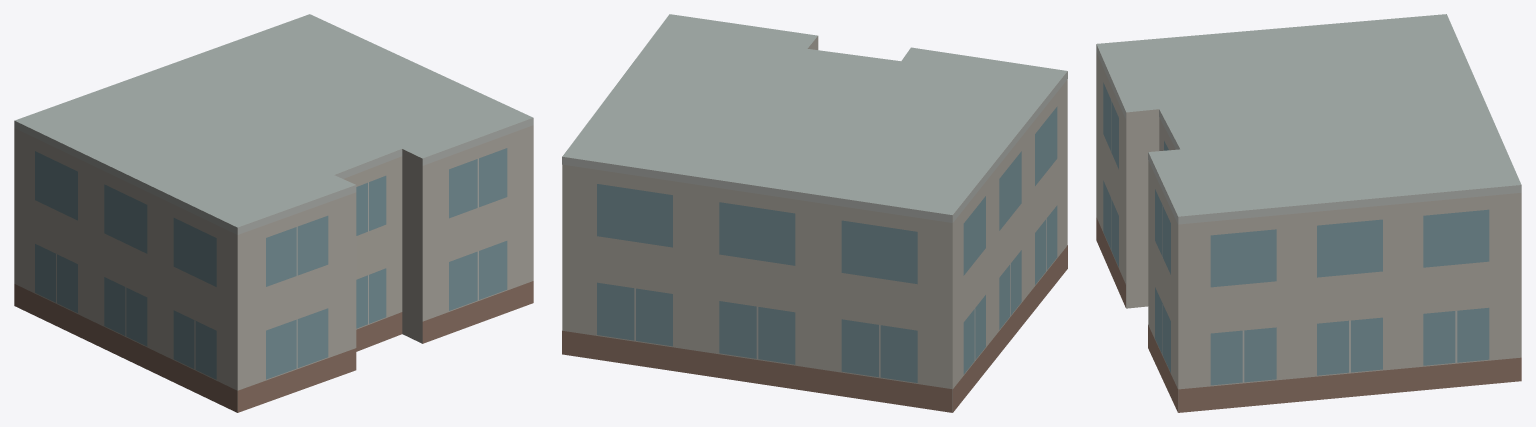
Rendered from survey-upis-32820253.glb.
3 views of the same model, side by side, from view 1: azimuth 30°, elevation 25°; view 2: azimuth 150°, elevation 25°; view 3: azimuth 270°, elevation 25° (orthographic). The views are drawn at different scales.
Parts seen in each view (by area): view 1: survey-upis-32820253.tmp; view 2: survey-upis-32820253.tmp; view 3: survey-upis-32820253.tmp.
Boxes of the visible parts, <box> form: survey-upis-32820253.tmp: <box>14,14,533,412</box>; survey-upis-32820253.tmp: <box>562,14,1067,412</box>; survey-upis-32820253.tmp: <box>1096,14,1521,412</box>.
Size of the model in its own units: 13.53 by 6.1 by 12.
